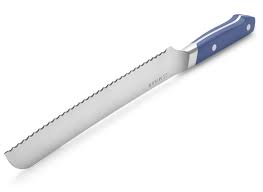knife: (3, 13, 256, 170)
